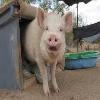heo: (33, 5, 75, 62)
